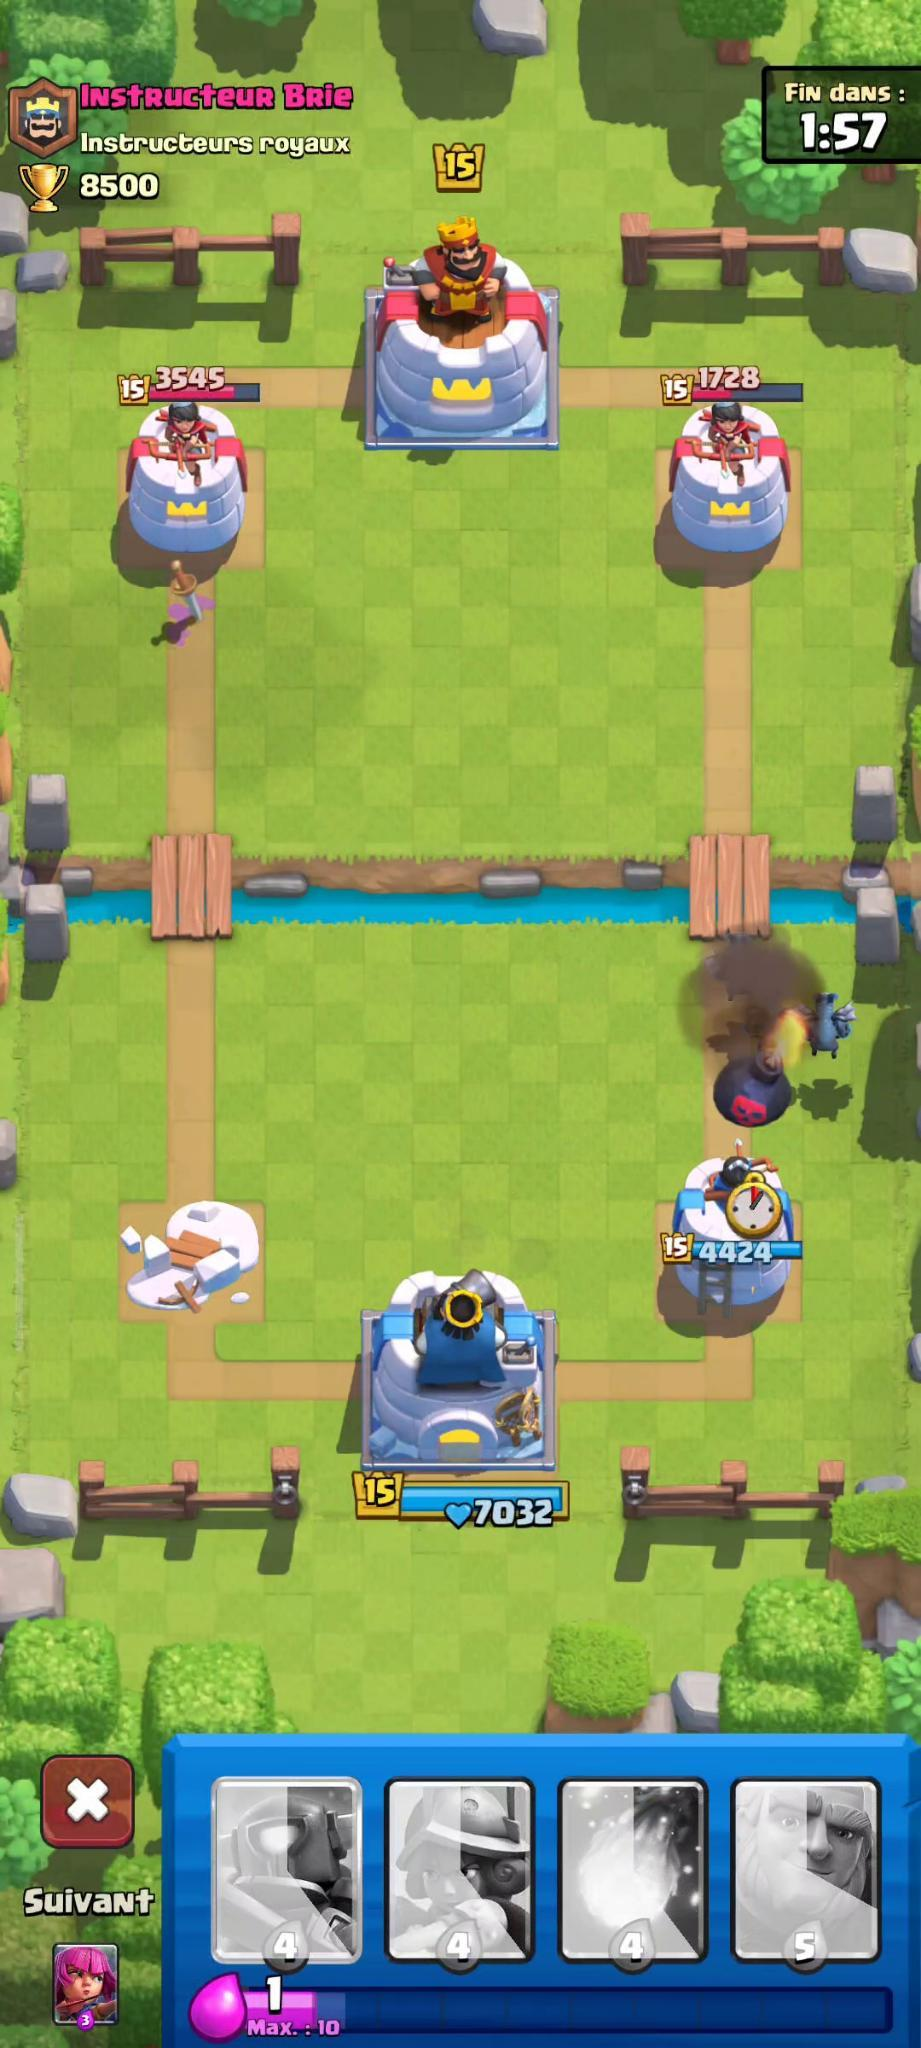enemy_bomber: (698, 1031, 798, 1138)
player_minions: (795, 982, 863, 1064)
